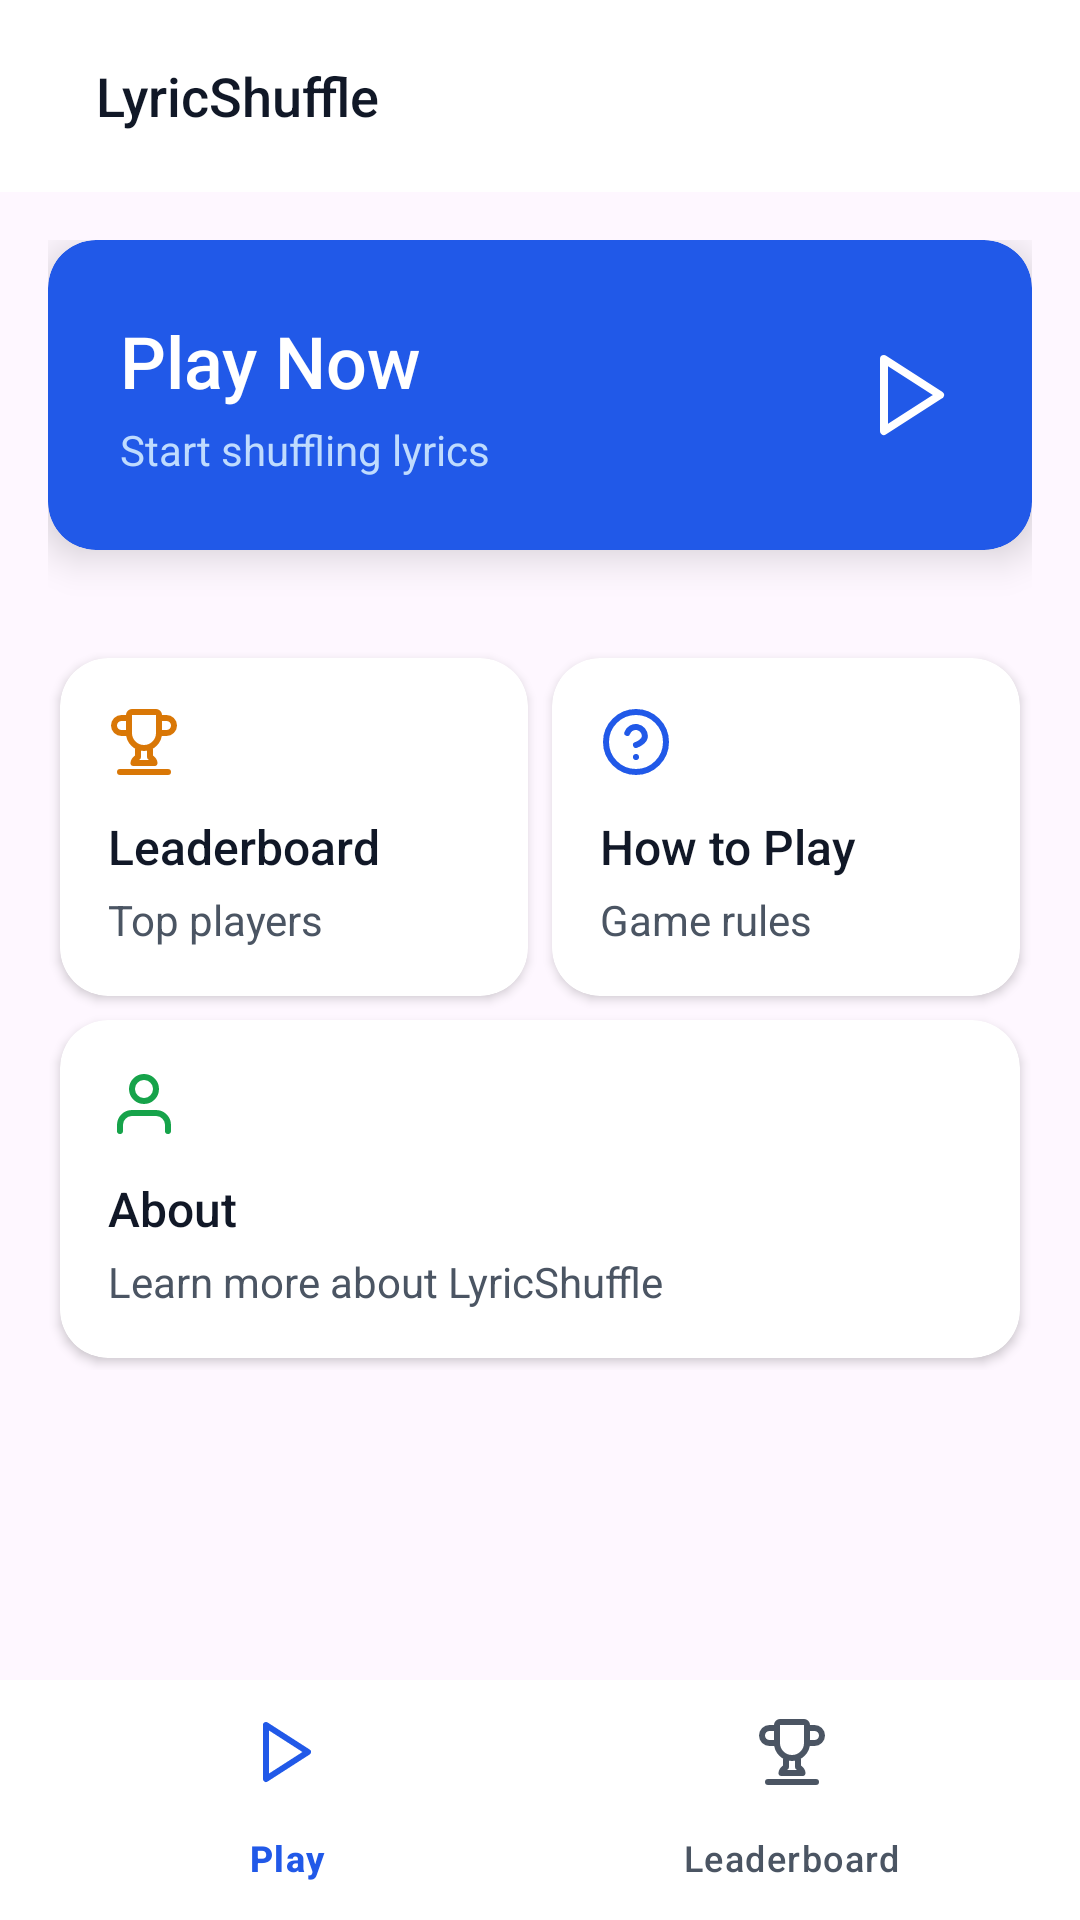

Where to tap for icons on this 1080 x 1920 app screen, as [x,y]:
help circle: [636,742]
play: [912,395]
trophy: [144,742]
